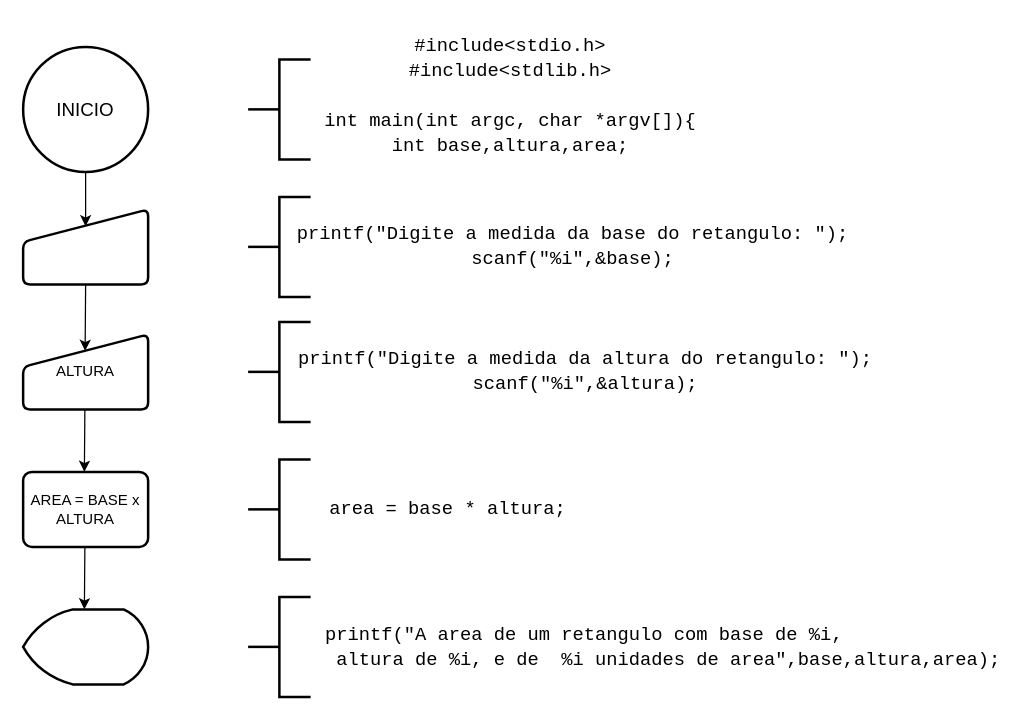
Image size: 1031x719. Some labels were removed from this diagram. Each missing label, with the centre of its shape:
AREA: point (85, 646)
BASE: point (85, 246)
